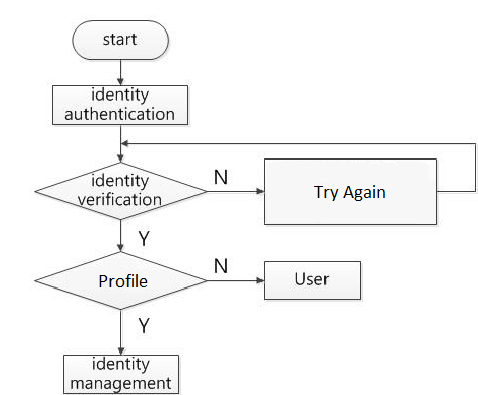arrow: (119, 137, 478, 193), (205, 185, 264, 195), (205, 276, 265, 285), (115, 124, 125, 162), (117, 309, 125, 355), (115, 218, 126, 250), (116, 57, 126, 86)
decision: (33, 250, 209, 313), (33, 162, 212, 220)
process: (262, 156, 439, 226), (50, 83, 191, 127), (60, 352, 181, 395), (262, 258, 365, 302)
terminator: (70, 18, 171, 62)
text: (70, 354, 173, 394), (63, 86, 176, 121), (76, 171, 164, 209), (311, 184, 387, 201), (97, 272, 148, 289), (102, 30, 139, 48), (293, 270, 330, 287), (137, 316, 156, 334), (213, 166, 229, 186), (213, 255, 229, 275), (137, 228, 153, 248)
